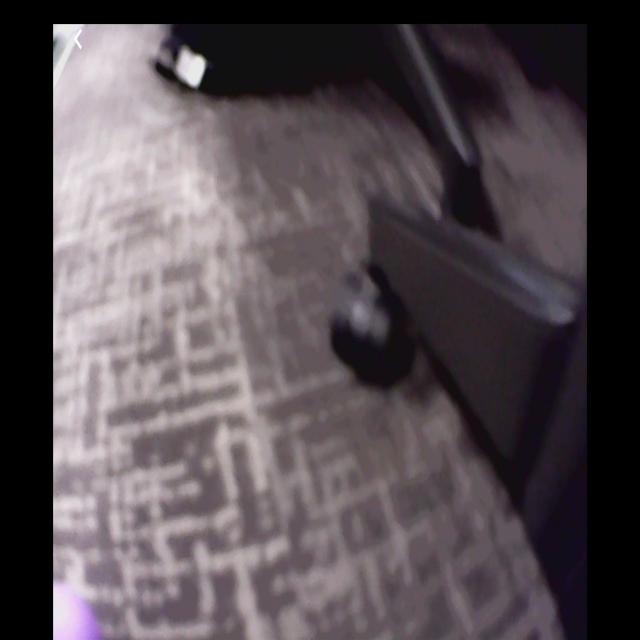ball: (56, 580, 107, 640)
